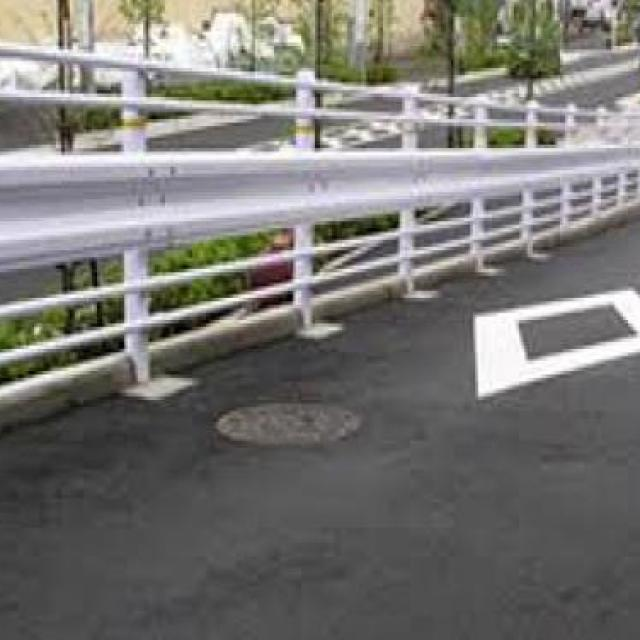Guard rail: (0, 48, 640, 434)
